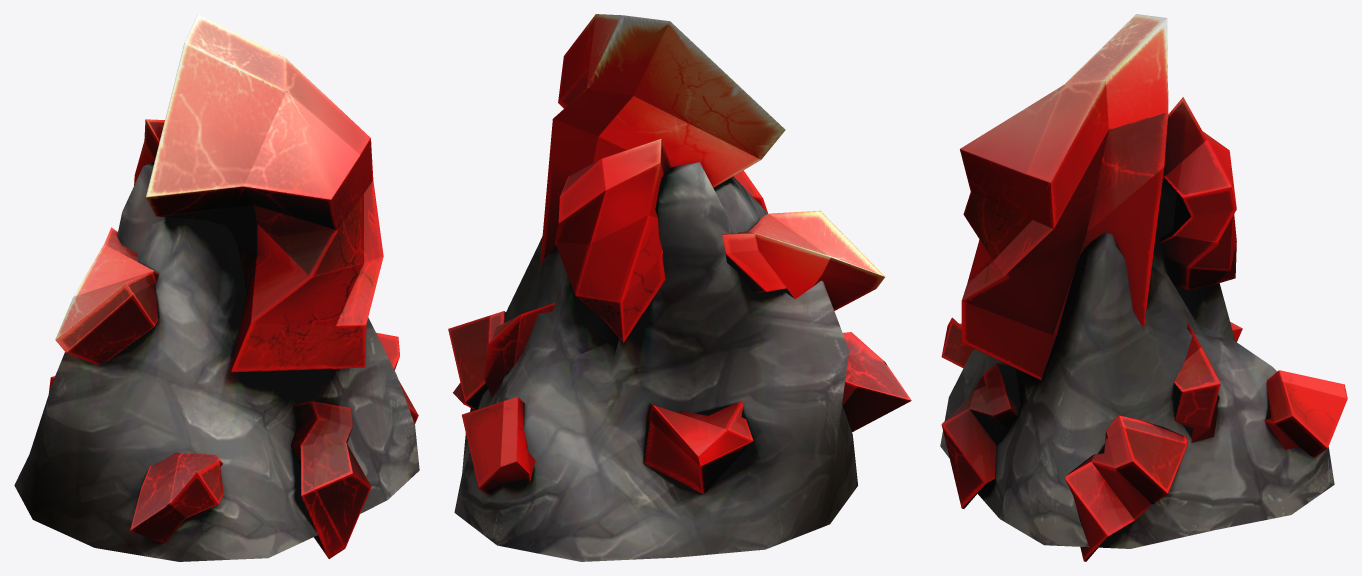
File: Crystal_51.fbx
3 views of the same model, side by side, from view 1: azimuth 30°, elevation 25°; view 2: azimuth 150°, elevation 25°; view 3: azimuth 270°, elevation 25° (orthographic). The views are drawn at different scales.
Parts seen in each view (by area): view 1: Crystal_51; view 2: Crystal_51; view 3: Crystal_51.
Boxes of the visible parts, x1,y1,x2,y2 form: Crystal_51: [14, 14, 419, 561]; Crystal_51: [448, 14, 911, 561]; Crystal_51: [940, 14, 1347, 561].
Size of the model in its own units: 89.92 by 106 by 82.22.
